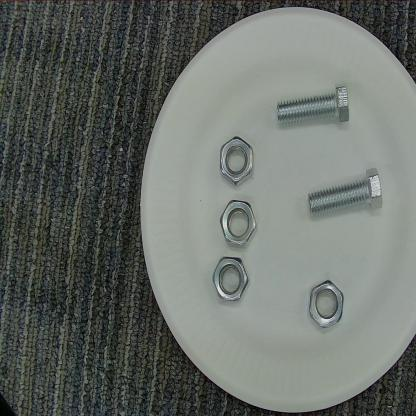FOD: (298, 158, 392, 222), (272, 79, 357, 133), (214, 196, 262, 255), (304, 274, 348, 333), (208, 254, 255, 304), (217, 132, 256, 188)
